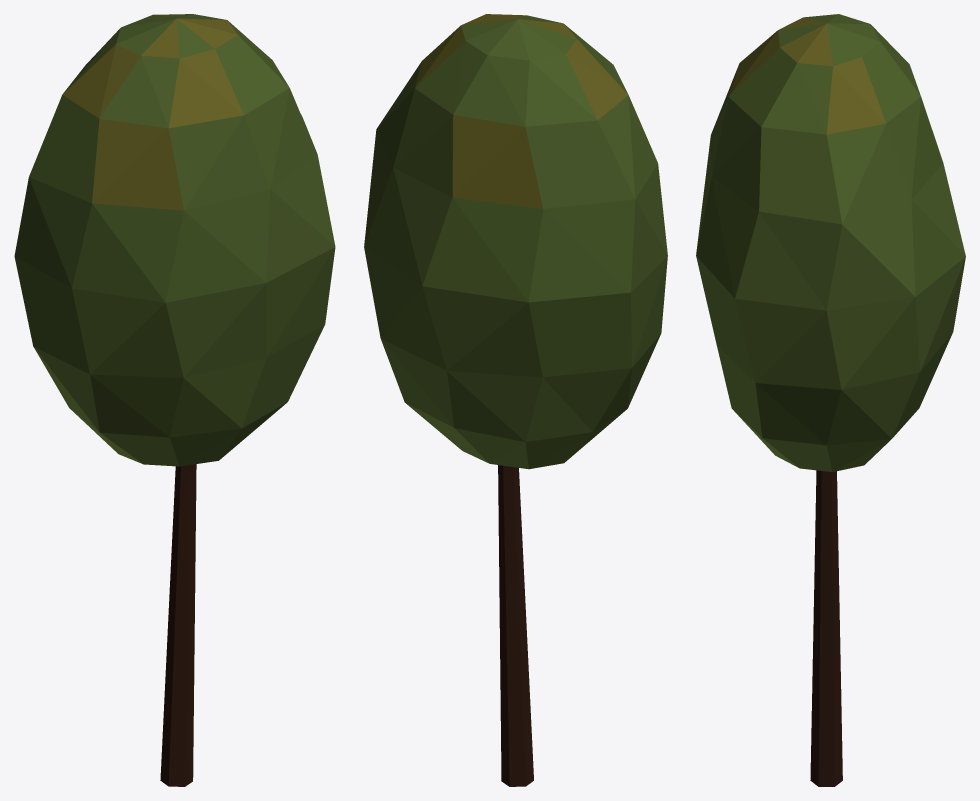
File: Tree_Sapling_03.fbx
3 views of the same model, side by side, from view 1: azimuth 30°, elevation 25°; view 2: azimuth 150°, elevation 25°; view 3: azimuth 270°, elevation 25° (orthographic).
Parts seen in each view (by area): view 1: Tree_Sapling_03_Foliage, Tree_Sapling_03_Trunk; view 2: Tree_Sapling_03_Foliage, Tree_Sapling_03_Trunk; view 3: Tree_Sapling_03_Foliage, Tree_Sapling_03_Trunk.
Boxes of the visible parts, x1,y1,x2,y2 form: Tree_Sapling_03_Foliage: (14,14,335,466); Tree_Sapling_03_Trunk: (160,464,196,786); Tree_Sapling_03_Foliage: (364,14,667,469); Tree_Sapling_03_Trunk: (498,465,533,786); Tree_Sapling_03_Foliage: (696,14,965,472); Tree_Sapling_03_Trunk: (810,470,842,786).
Bounding box in the file's own units: 1.56 × 4.12 × 1.33.
Materials: 1 (1 with a texture image).
